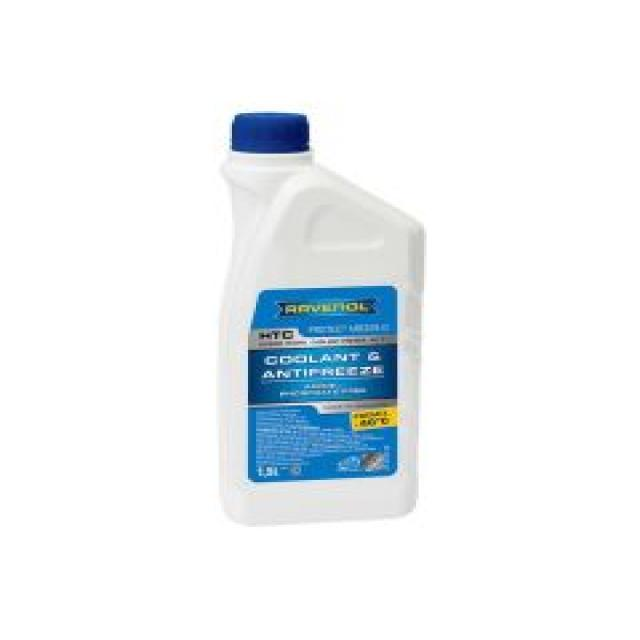coolant: (191, 103, 443, 538)
